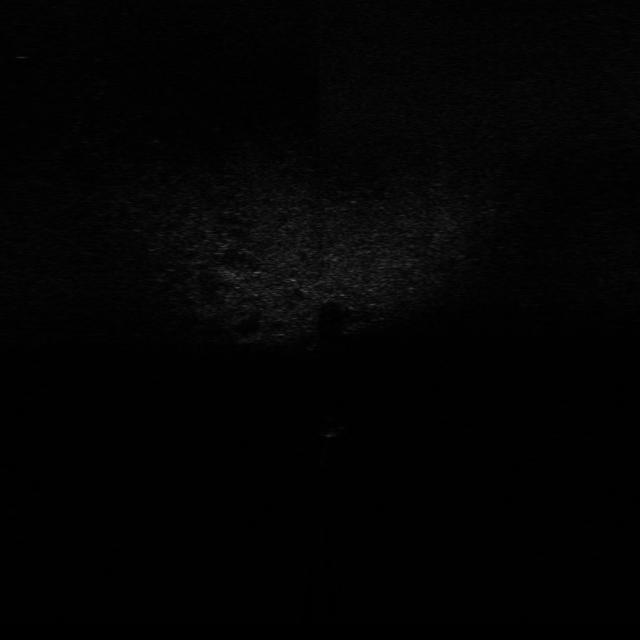ball: (309, 414, 352, 440)
